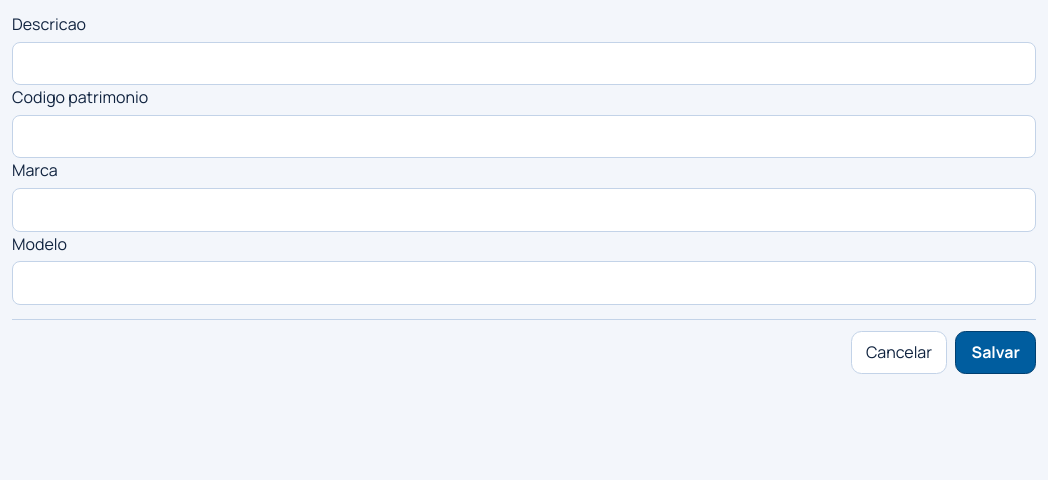
HardwareForm › validates required codigoPatrimonio before submit
The width and height of the screenshot is (1048, 480).
In the field labelled "Descricao": coordinates (524, 63) [12, 42, 1036, 85], type "Notebook Dell"
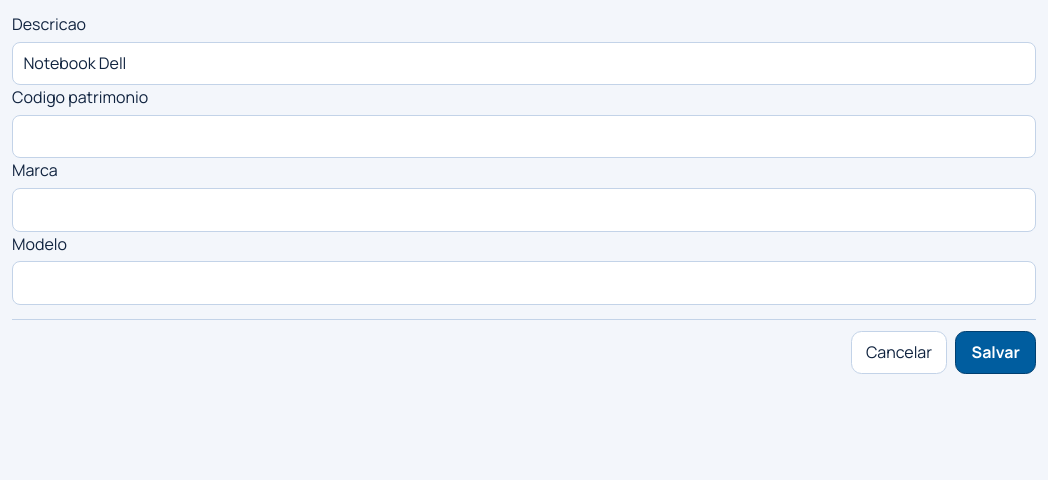
Click the button "Salvar": coordinates (996, 352) [955, 330, 1036, 374]
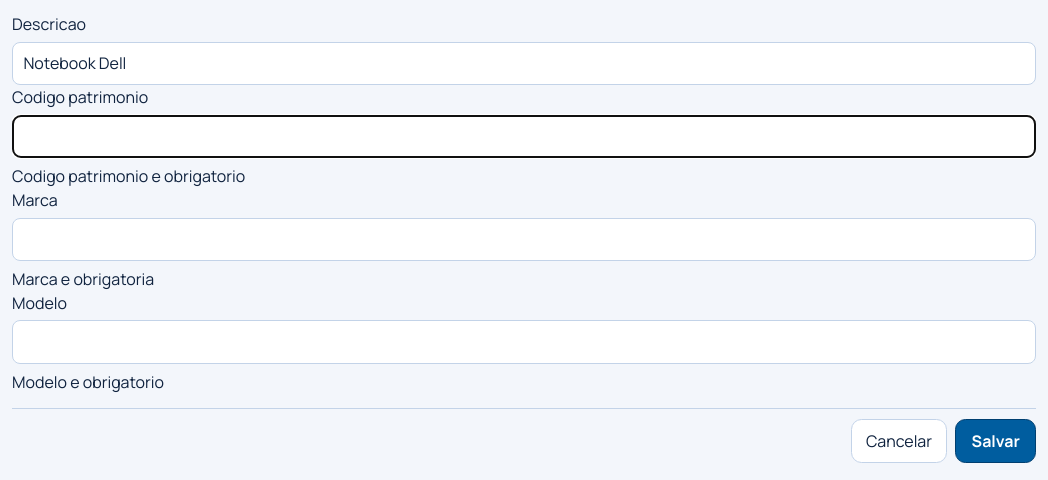
Result: the text "Codigo patrimonio e obrigatorio" is shown at [12, 165, 245, 187]
